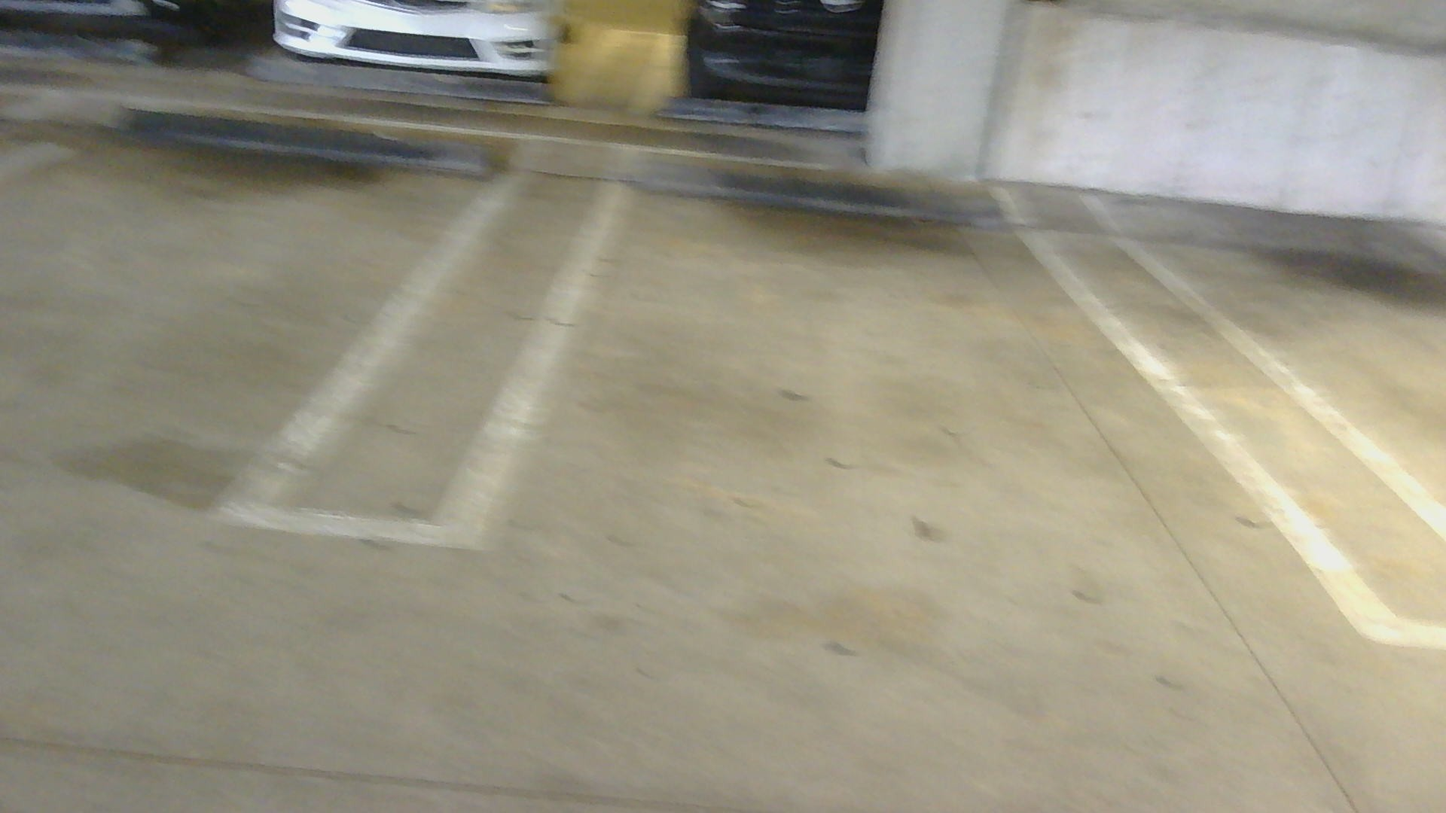empty_spot: (416, 151, 1446, 601), (0, 97, 574, 524), (1066, 79, 1445, 578)
